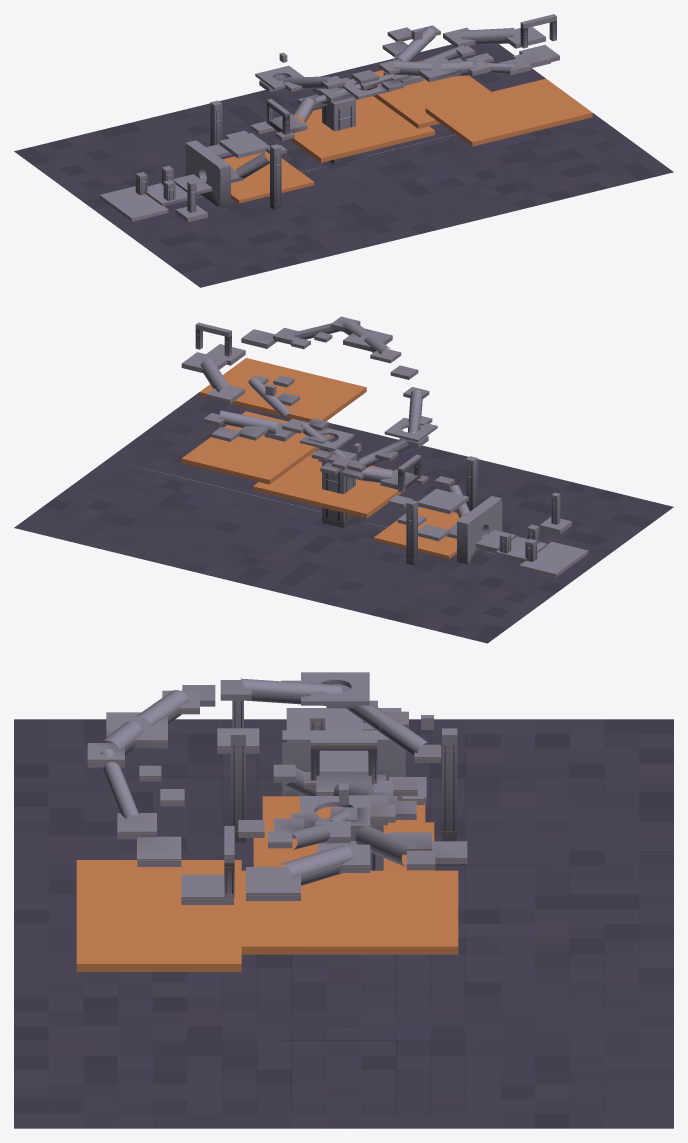
Rendered from 01_world.glb.
3 views of the same model, one above another, from view 1: azimuth 30°, elevation 25°; view 2: azimuth 150°, elevation 25°; view 3: azimuth 270°, elevation 25° (orthographic). The views are drawn at different scales.
Visible parts, largest first — view 1: world_11_floor_noshadow_nocol, world_01_floor_noshadow_nocol, world_11_foam_nocol, world_00_floor_noshadow_nocol, world_01_body_nocol, world_11_body_nocol, world_00_body_nocol, world_10_floor_noshadow_nocol, world_10_body_nocol, world_01_foam_nocol, world_01_panel_noshadow_nocol; view 2: world_10_floor_noshadow_nocol, world_00_floor_noshadow_nocol, world_11_foam_nocol, world_01_floor_noshadow_nocol, world_11_floor_noshadow_nocol, world_11_body_nocol, world_01_body_nocol, world_00_body_nocol, world_10_body_nocol, world_01_foam_nocol; view 3: world_10_floor_noshadow_nocol, world_11_floor_noshadow_nocol, world_00_floor_noshadow_nocol, world_11_foam_nocol, world_01_floor_noshadow_nocol, world_11_body_nocol, world_01_body_nocol, world_00_body_nocol, world_10_body_nocol, world_01_foam_nocol, world_11_trim_noshadow_nocol.
Boxes of the visible parts, box(x1,y1,x2,y2) form: world_11_floor_noshadow_nocol: box(345, 113, 673, 229); world_01_floor_noshadow_nocol: box(103, 161, 436, 287); world_11_foam_nocol: box(275, 60, 592, 162); world_00_floor_noshadow_nocol: box(14, 93, 323, 217); world_01_body_nocol: box(99, 65, 379, 222); world_11_body_nocol: box(341, 14, 559, 99); world_00_body_nocol: box(135, 52, 327, 208); world_10_floor_noshadow_nocol: box(251, 44, 545, 156); world_10_body_nocol: box(315, 25, 440, 164); world_01_foam_nocol: box(223, 151, 314, 203); world_01_panel_noshadow_nocol: box(164, 119, 289, 211); world_10_floor_noshadow_nocol: box(14, 463, 332, 585); world_00_floor_noshadow_nocol: box(251, 521, 577, 643); world_11_foam_nocol: box(181, 358, 414, 518); world_01_floor_noshadow_nocol: box(350, 449, 673, 578); world_11_floor_noshadow_nocol: box(102, 392, 436, 516); world_11_body_nocol: box(181, 316, 401, 451); world_01_body_nocol: box(380, 365, 588, 577); world_00_body_nocol: box(320, 439, 537, 565); world_10_body_nocol: box(203, 410, 356, 527); world_01_foam_nocol: box(373, 506, 464, 558); world_10_floor_noshadow_nocol: box(344, 924, 673, 1128); world_11_floor_noshadow_nocol: box(14, 924, 361, 1128); world_00_floor_noshadow_nocol: box(405, 719, 673, 923); world_11_foam_nocol: box(76, 822, 458, 971); world_01_floor_noshadow_nocol: box(14, 719, 286, 923); world_11_body_nocol: box(87, 690, 370, 904); world_01_body_nocol: box(182, 672, 401, 842); world_00_body_nocol: box(282, 700, 457, 841); world_10_body_nocol: box(326, 795, 467, 870); world_01_foam_nocol: box(262, 796, 425, 822); world_11_trim_noshadow_nocol: box(77, 709, 457, 966).
Size of the model in its own units: 440 by 119 by 300.
